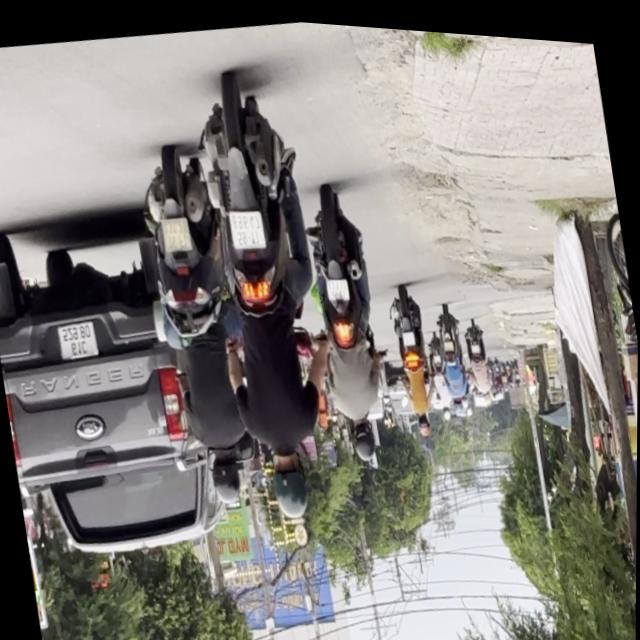helmet: (265, 442, 313, 519), (207, 443, 245, 505), (348, 409, 377, 458)
licenseplate: (183, 66, 354, 531), (128, 136, 266, 518), (295, 178, 401, 464)
nohelmet: (228, 203, 265, 247), (160, 213, 191, 251), (325, 272, 348, 297)
